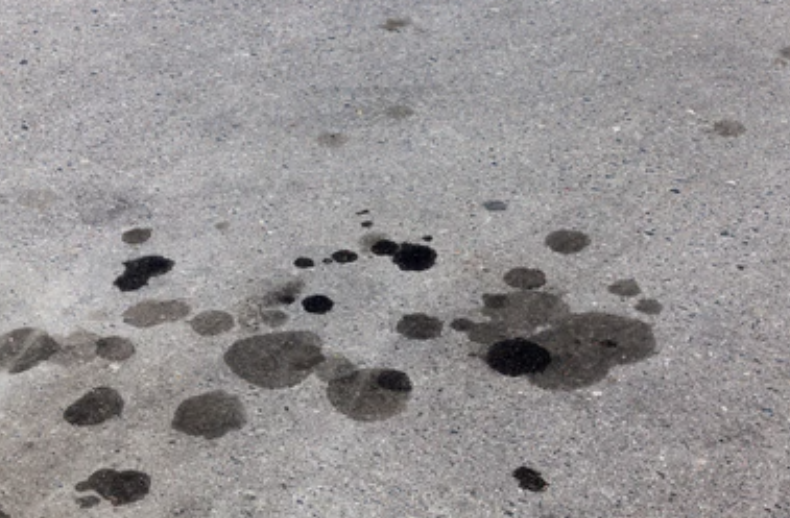oil: (227, 133, 333, 197), (112, 165, 207, 210), (2, 167, 70, 188), (36, 232, 79, 255), (184, 116, 224, 137), (132, 141, 168, 164), (31, 193, 65, 214), (58, 127, 90, 146), (254, 232, 281, 249), (272, 113, 298, 127)
